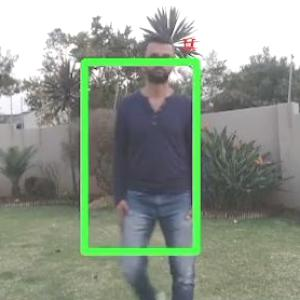follow: (97, 23, 207, 299)
